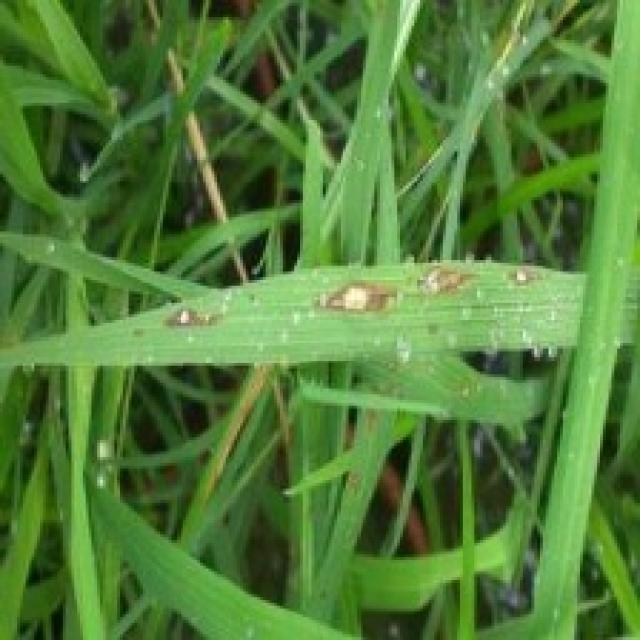Rice___Rice_Blast: (0, 259, 588, 370)
